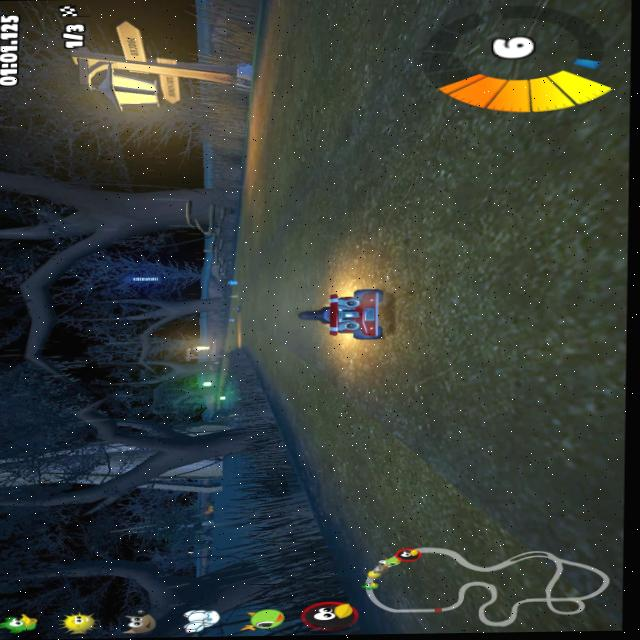bonus: (225, 277, 239, 285)
obstacle: (227, 290, 240, 301)
player_kart: (294, 287, 391, 343)
